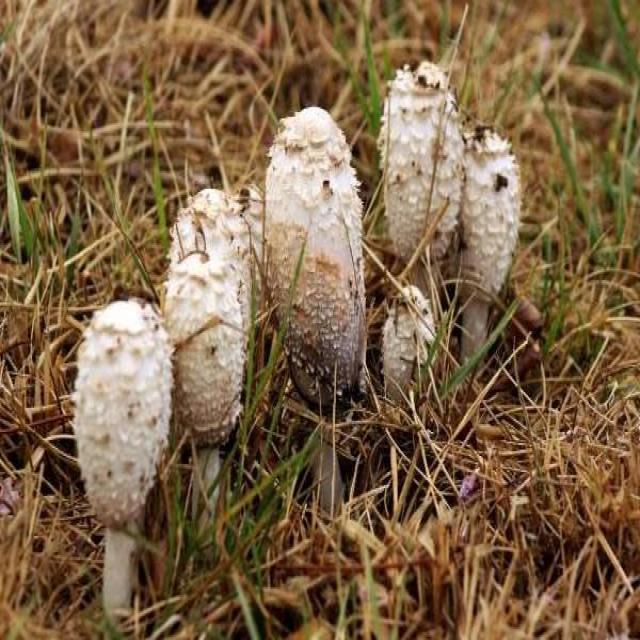Coprinus comatus: (264, 107, 364, 408), (75, 299, 171, 609), (168, 187, 244, 517), (381, 61, 460, 290), (454, 126, 519, 368), (379, 286, 438, 408)
